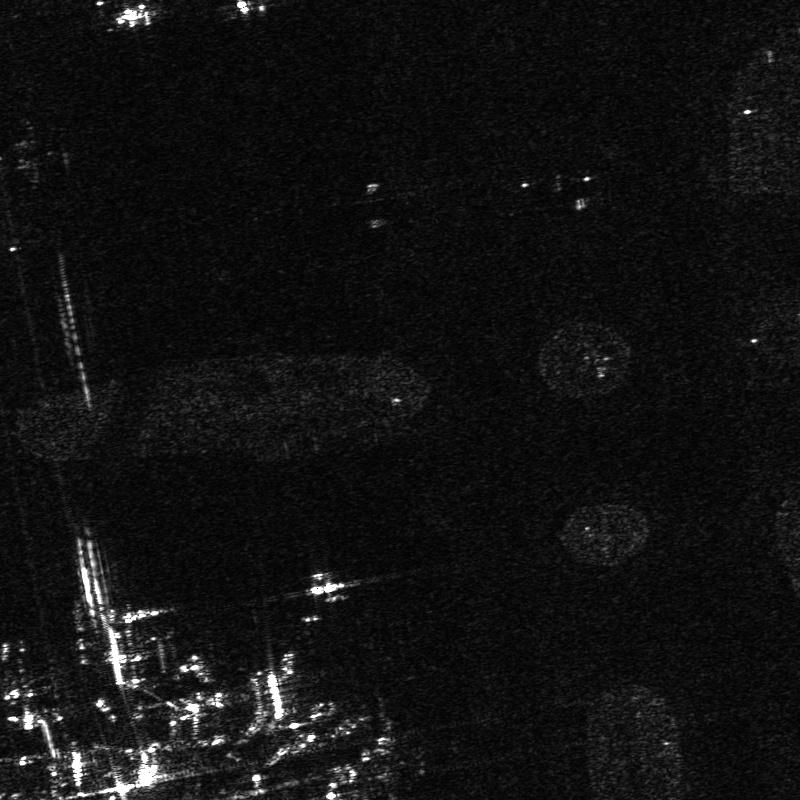A220: (1, 639, 51, 727)
